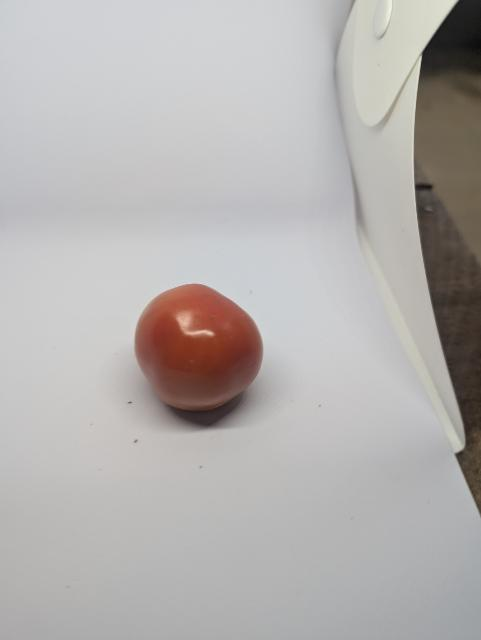red: (134, 281, 266, 414)
